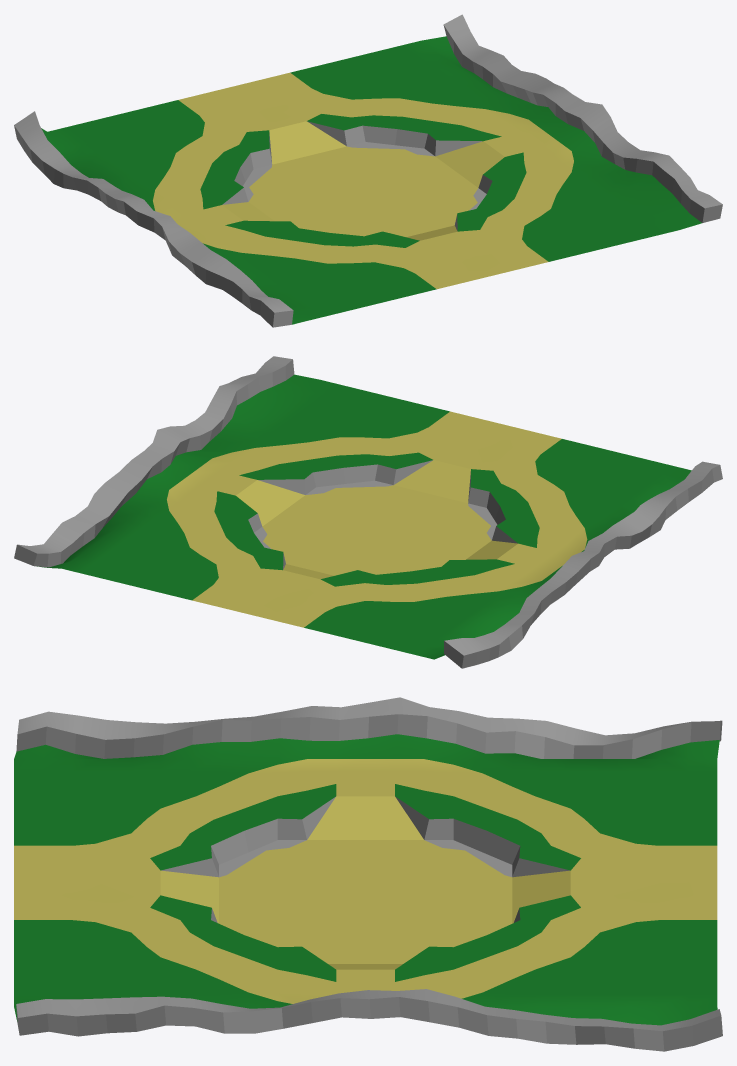
File: Map.FBX
3 views of the same model, one above another, from view 1: azimuth 30°, elevation 25°; view 2: azimuth 150°, elevation 25°; view 3: azimuth 270°, elevation 25° (orthographic). The views are drawn at different scales.
Visible parts, largest first — view 1: Map; view 2: Map; view 3: Map.
Boxes of the visible parts, left/top/right/bottom form: Map: left=14, top=14, right=722, bottom=327; Map: left=14, top=356, right=722, bottom=668; Map: left=14, top=697, right=722, bottom=1051.
Size of the model in its own units: 514 by 47.27 by 504.
